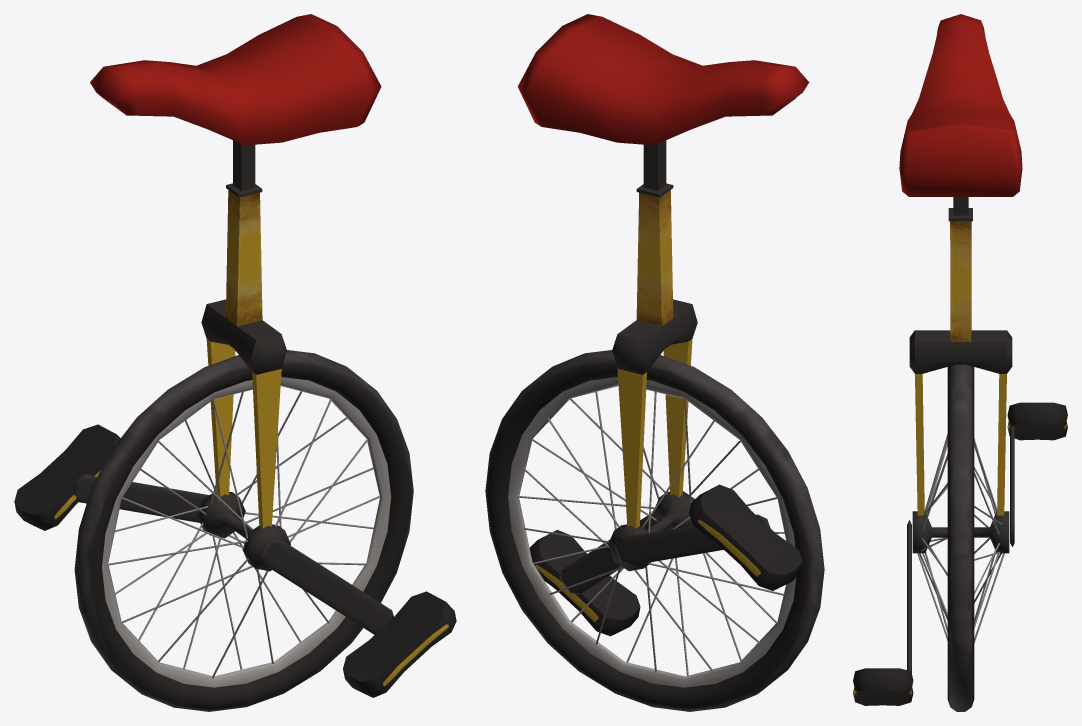
The model's file is Unicycle_Scaled.fbx.
3 renders of one model, left to right at view 1: azimuth 30°, elevation 25°; view 2: azimuth 150°, elevation 25°; view 3: azimuth 270°, elevation 25°, orthographic. The views are drawn at different scales.
Parts seen in each view (by area): view 1: OuterTyre, Seat, Frame, InnerTyre, Pedal2, Pedal1, PeddleStick_1, InbetweenyBit, PeddleStick_2; view 2: OuterTyre, Seat, Frame, InnerTyre, Pedal1, Pedal2, PeddleStick_2, InbetweenyBit, PeddleStick_1; view 3: Seat, OuterTyre, Frame, Pedal2, Pedal1, InbetweenyBit, PeddleStick_1, PeddleStick_2.
Part boxes in pixels (x1,y1,x2,y2): OuterTyre: (74, 350, 413, 711); Seat: (90, 14, 381, 145); Frame: (201, 140, 286, 528); InnerTyre: (102, 377, 390, 687); Pedal2: (343, 591, 456, 697); Pedal1: (14, 424, 120, 530); PeddleStick_1: (259, 539, 393, 634); InbetweenyBit: (197, 491, 290, 571); PeddleStick_2: (72, 474, 209, 522); OuterTyre: (485, 350, 824, 711); Seat: (517, 14, 809, 145); Frame: (612, 140, 697, 528); InnerTyre: (508, 377, 795, 687); Pedal1: (689, 484, 802, 590); Pedal2: (529, 530, 640, 636); PeddleStick_2: (614, 514, 770, 565); InbetweenyBit: (608, 491, 694, 571); PeddleStick_1: (560, 513, 656, 594); Seat: (899, 14, 1022, 196); OuterTyre: (947, 364, 974, 711); Frame: (909, 197, 1012, 515); Pedal2: (853, 668, 913, 705); Pedal1: (1007, 402, 1067, 440); InbetweenyBit: (912, 511, 1009, 553); PeddleStick_1: (907, 520, 911, 672); PeddleStick_2: (1010, 425, 1014, 546).
Size of the model in its own units: 45.04 by 82.59 by 25.86.
